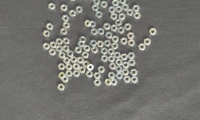nut: (149, 28, 158, 36), (139, 43, 147, 51), (131, 76, 139, 84), (128, 52, 136, 60), (128, 59, 136, 67), (112, 35, 120, 43), (108, 55, 116, 63), (108, 72, 116, 80), (98, 66, 106, 74), (94, 72, 102, 80), (60, 28, 68, 36), (73, 70, 81, 78), (58, 63, 66, 71), (145, 38, 152, 46), (133, 5, 141, 12), (134, 12, 142, 19), (131, 69, 138, 77), (125, 23, 132, 31), (128, 32, 135, 40), (128, 40, 136, 47), (121, 37, 128, 45), (122, 4, 130, 11), (121, 54, 129, 61), (122, 69, 130, 76), (118, 26, 125, 34), (119, 13, 126, 21), (116, 5, 123, 13), (109, 6, 116, 14), (111, 24, 118, 32), (112, 42, 119, 50), (115, 66, 123, 73), (116, 73, 124, 80), (108, 48, 115, 56), (109, 63, 117, 70), (101, 55, 108, 63), (101, 1, 108, 9), (91, 28, 98, 36), (92, 4, 100, 11), (90, 40, 98, 47), (91, 47, 99, 54), (94, 80, 102, 87), (86, 71, 94, 78), (79, 66, 86, 74), (82, 52, 90, 59), (75, 46, 82, 54), (76, 6, 83, 14), (69, 10, 77, 17), (61, 4, 68, 12), (62, 15, 70, 22), (63, 22, 71, 29), (46, 23, 54, 30), (43, 30, 51, 37), (63, 37, 70, 45), (67, 50, 74, 58), (63, 45, 70, 53), (66, 70, 73, 78), (59, 72, 66, 80), (65, 64, 73, 71), (63, 57, 70, 65), (56, 45, 63, 53), (50, 41, 57, 49), (127, 9, 134, 16), (123, 62, 130, 69), (124, 76, 131, 83), (116, 19, 123, 26), (111, 13, 118, 20), (114, 52, 121, 59), (116, 59, 123, 66), (105, 79, 112, 86), (106, 32, 113, 39), (104, 40, 111, 47), (101, 48, 108, 55), (104, 23, 111, 30), (98, 28, 105, 35), (85, 20, 92, 27), (96, 11, 103, 18), (97, 41, 104, 48), (87, 64, 94, 71), (83, 61, 90, 68), (84, 45, 91, 52), (80, 36, 87, 43), (78, 41, 85, 48), (77, 57, 84, 64), (49, 3, 56, 10), (56, 38, 63, 45), (73, 63, 80, 70), (58, 84, 65, 91), (62, 76, 69, 83), (59, 52, 66, 59), (49, 49, 56, 56), (43, 43, 50, 50), (112, 0, 120, 6), (71, 56, 77, 64), (112, 79, 118, 86), (91, 20, 96, 28), (93, 0, 101, 5), (120, 0, 127, 5)
